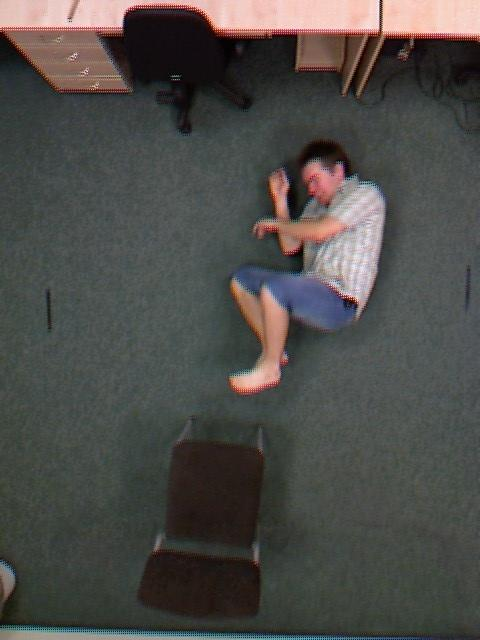fall: (208, 151, 402, 381)
